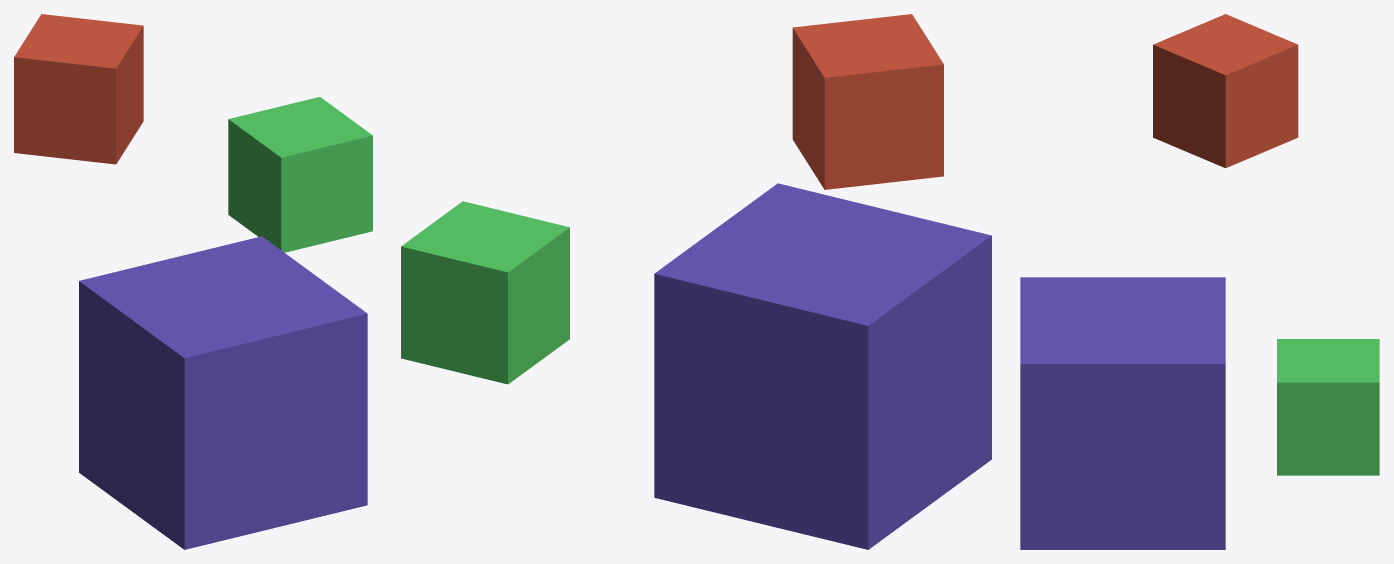
3 views of the same model, side by side, from view 1: azimuth 30°, elevation 25°; view 2: azimuth 150°, elevation 25°; view 3: azimuth 270°, elevation 25° (orthographic). The views are drawn at different scales.
Visible parts, largest first — view 1: Cube, CubeFils, CubeVoisin; view 2: Cube, CubeFils, CubeVoisin; view 3: Cube, CubeVoisin, CubeFils.
Boxes of the visible parts, x1,y1,x2,y2 form: Cube: (79,236,367,549); CubeFils: (228,97,372,252); CubeVoisin: (14,14,143,164); Cube: (654,183,991,549); CubeFils: (401,201,569,384); CubeVoisin: (792,14,943,189); Cube: (1020,277,1225,549); CubeVoisin: (1153,14,1298,168); CubeFils: (1277,339,1379,475).
Size of the model in its own units: 4.21 by 3.5 by 4.5.
